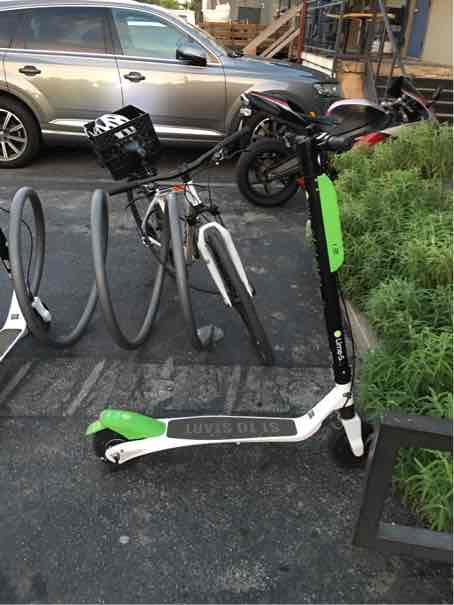scooter: (85, 112, 385, 473)
